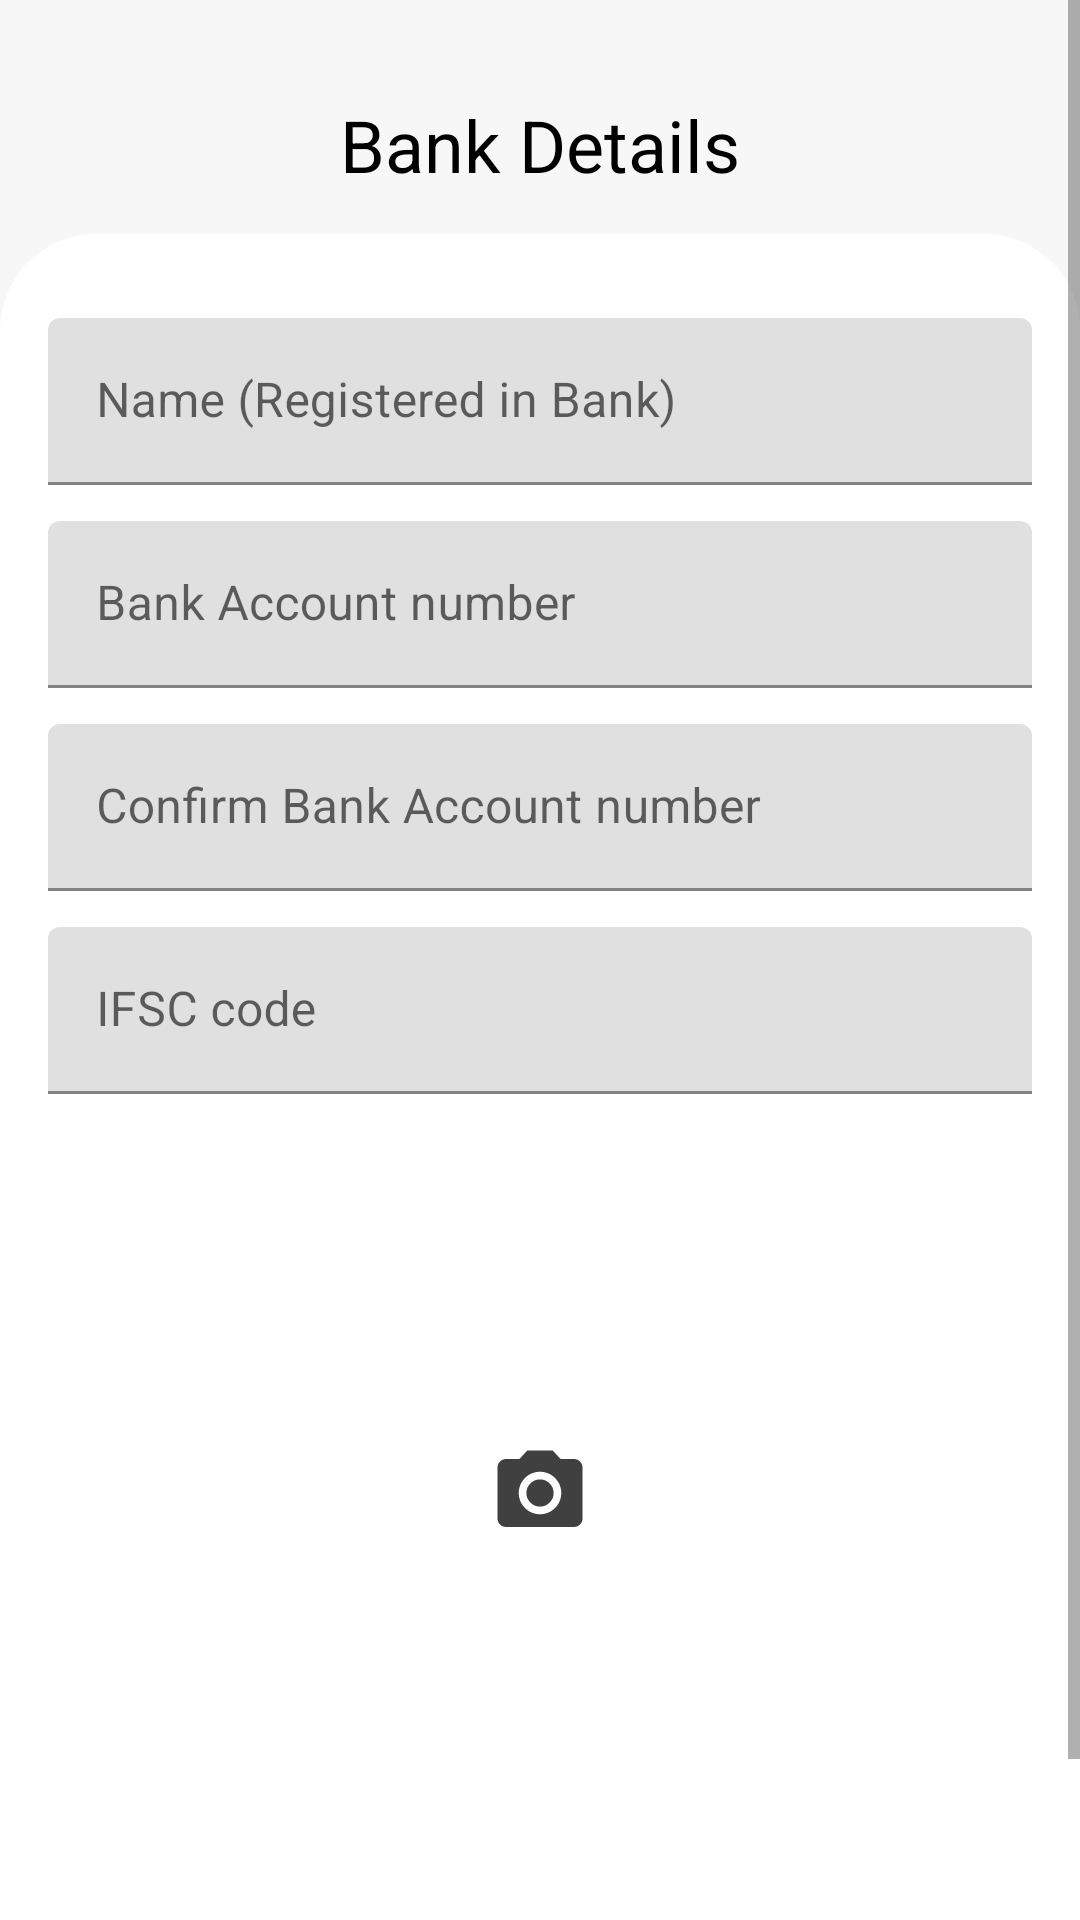

Icons on this 1080×1920 Android screen, each with its box as (x1, y1, x2, y2):
camera: (497, 1450, 583, 1527)
